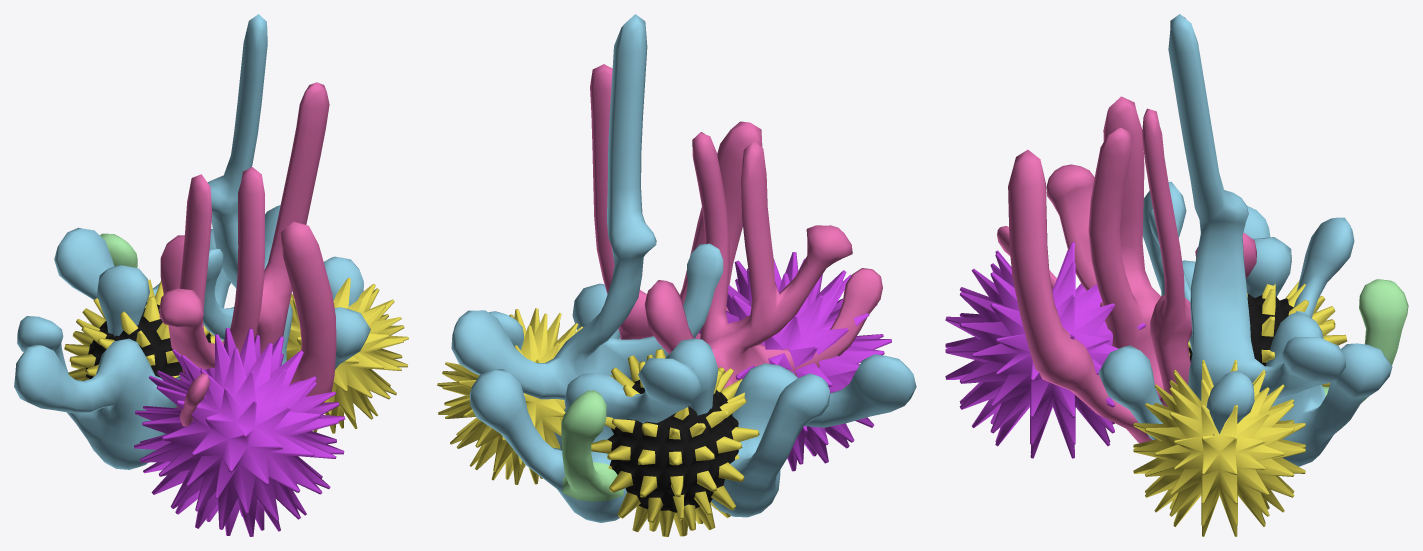
File: corals.glb
3 renders of one model, left to right at view 1: azimuth 30°, elevation 25°; view 2: azimuth 150°, elevation 25°; view 3: azimuth 270°, elevation 25°, orthographic. The views are drawn at different scales.
Parts seen in each view (by area): view 1: corals_0; view 2: corals_0; view 3: corals_0.
Boxes of the visible parts, left/top/right/bottom form: corals_0: left=14, top=14, right=408, bottom=536; corals_0: left=437, top=14, right=916, bottom=536; corals_0: left=945, top=14, right=1408, bottom=536.
Size of the model in its own units: 2.56 by 2.68 by 2.37.
